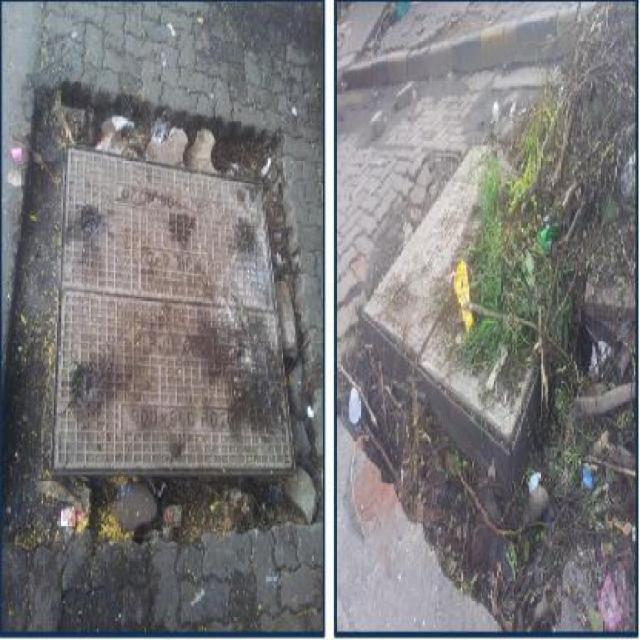Manhole: (45, 133, 302, 490), (352, 122, 610, 476)
